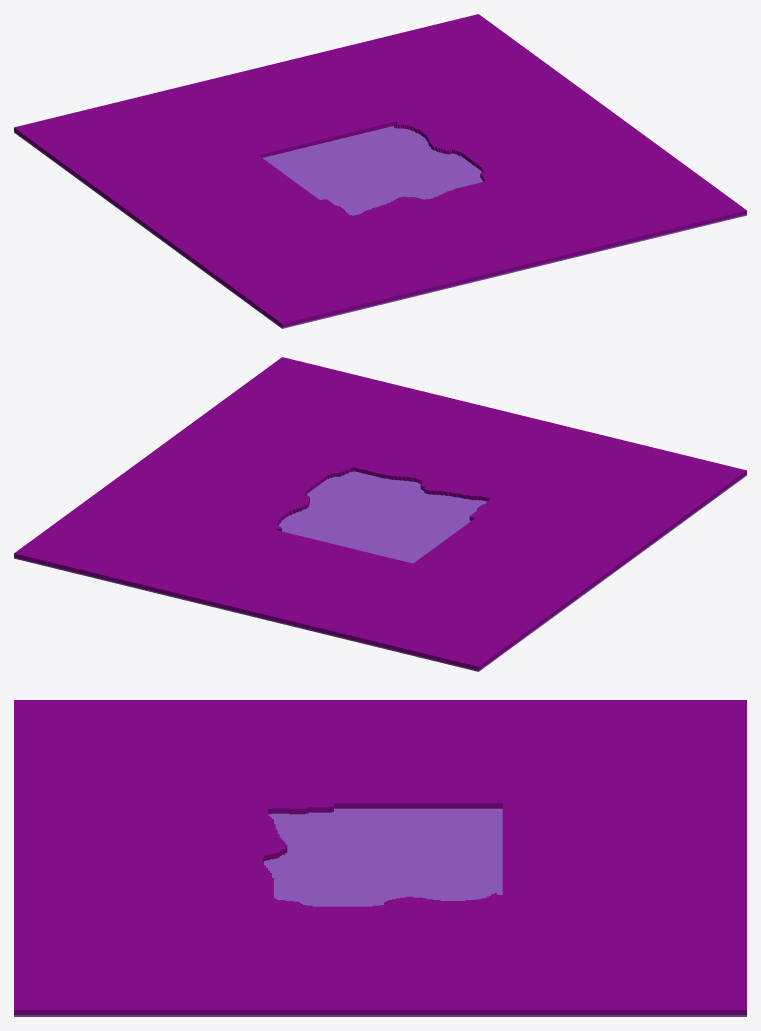
Rendered from New water and floor.fbx.
The picture shows the model from 3 angles, top to bottom: view 1: azimuth 30°, elevation 25°; view 2: azimuth 150°, elevation 25°; view 3: azimuth 270°, elevation 25°; orthographic projection. The views are drawn at different scales.
Parts seen in each view (by area): view 1: Mesh9, Mesh14, Mesh11, Mesh13, Mesh8, Mesh10, water1:Mesh, Mesh12, surrounding_waterfloor:Mesh, surrounding_water:Mesh; view 2: Mesh10, Mesh13, Mesh12, Mesh8, Mesh9, water1:Mesh, Mesh11, Mesh14, surrounding_waterfloor:Mesh, surrounding_water:Mesh; view 3: water1:Mesh, Mesh11, Mesh12, Mesh8, Mesh13, Mesh14, Mesh9, Mesh10, surrounding_waterfloor:Mesh, surrounding_water:Mesh.
Boxes of the visible parts, x1,y1,x2,y2 form: Mesh9: [193, 220, 437, 327]; Mesh14: [348, 183, 591, 289]; Mesh11: [503, 145, 746, 251]; Mesh13: [169, 52, 412, 157]; Mesh8: [103, 155, 347, 261]; Mesh10: [14, 89, 257, 196]; water1:Mesh: [413, 79, 656, 182]; Mesh12: [324, 14, 567, 117]; surrounding_waterfloor:Mesh: [263, 126, 482, 215]; surrounding_water:Mesh: [320, 117, 502, 220]; Mesh10: [323, 563, 567, 670]; Mesh13: [169, 526, 412, 632]; Mesh12: [14, 488, 257, 594]; Mesh8: [413, 498, 657, 604]; Mesh9: [503, 432, 746, 539]; water1:Mesh: [104, 422, 347, 525]; Mesh11: [193, 357, 436, 460]; Mesh14: [348, 395, 591, 497]; surrounding_waterfloor:Mesh: [278, 471, 487, 563]; surrounding_water:Mesh: [258, 460, 502, 531]; water1:Mesh: [258, 906, 502, 1014]; Mesh11: [14, 906, 258, 1014]; Mesh12: [502, 906, 746, 1014]; Mesh8: [258, 700, 502, 808]; Mesh13: [502, 803, 746, 906]; Mesh14: [14, 803, 258, 906]; Mesh9: [14, 700, 258, 803]; Mesh10: [502, 700, 746, 803]; surrounding_waterfloor:Mesh: [264, 808, 502, 906]; surrounding_water:Mesh: [258, 803, 502, 906].
Bounding box in the file's own units: 378 × 4 × 378.
Materials: 1 (1 with a texture image).
